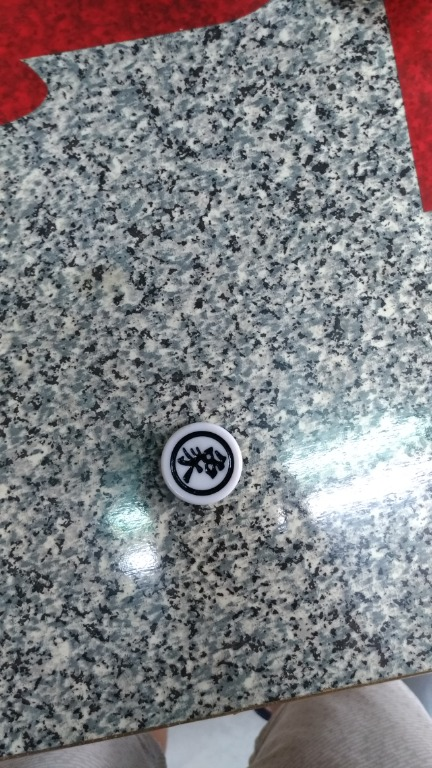b-elephant: (153, 411, 261, 516)
